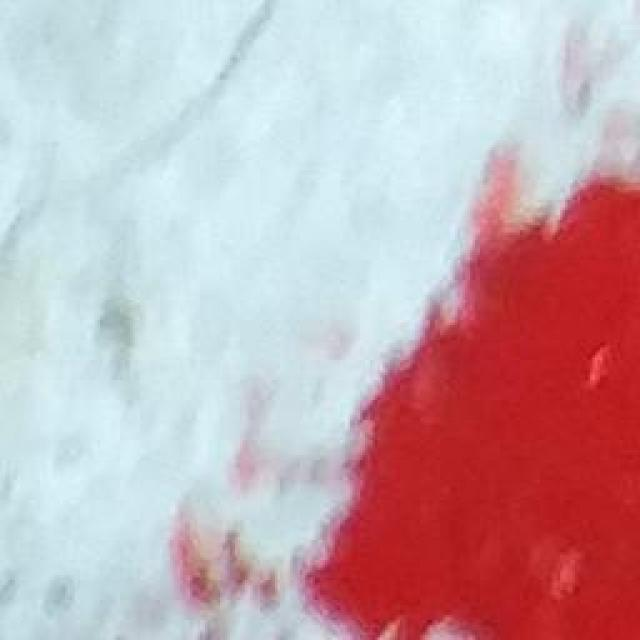Diagonal: (10, 1, 281, 264)
